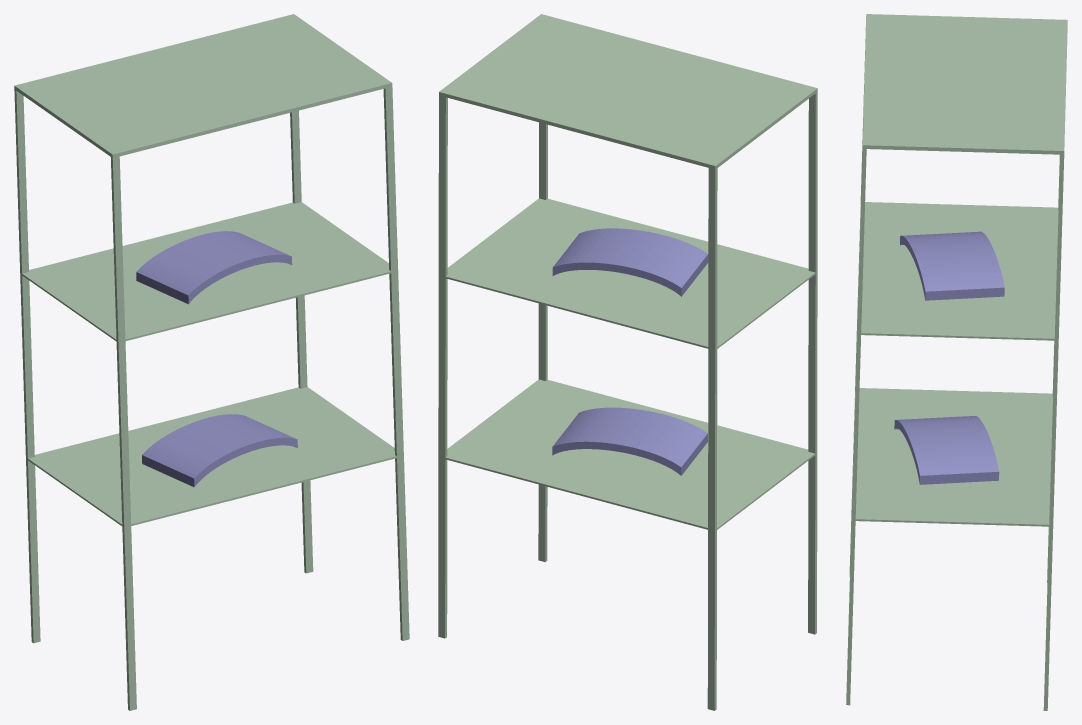
Rendered from huojia.dae.
The picture shows the model from 3 angles, left to right: view 1: azimuth 30°, elevation 25°; view 2: azimuth 150°, elevation 25°; view 3: azimuth 270°, elevation 25°; orthographic projection.
Parts seen in each view (by area): view 1: ShapeIndexedFaceSet, ShapeIndexedFaceSet_001, ShapeIndexedFaceSet_002; view 2: ShapeIndexedFaceSet, ShapeIndexedFaceSet_001, ShapeIndexedFaceSet_002; view 3: ShapeIndexedFaceSet, ShapeIndexedFaceSet_002, ShapeIndexedFaceSet_001.
Boxes of the visible parts, x1=… form: ShapeIndexedFaceSet: x1=14, y1=14, x2=409, y2=710; ShapeIndexedFaceSet_001: x1=136, y1=231, x2=292, y2=304; ShapeIndexedFaceSet_002: x1=142, y1=414, x2=297, y2=487; ShapeIndexedFaceSet: x1=438, y1=14, x2=817, y2=710; ShapeIndexedFaceSet_001: x1=552, y1=228, x2=708, y2=296; ShapeIndexedFaceSet_002: x1=552, y1=407, x2=707, y2=475; ShapeIndexedFaceSet: x1=846, y1=14, x2=1067, y2=710; ShapeIndexedFaceSet_002: x1=894, y1=416, x2=999, y2=484; ShapeIndexedFaceSet_001: x1=900, y1=231, x2=1004, y2=300.
Size of the model in its own units: 0.8315 by 0.5496 by 1.55.
